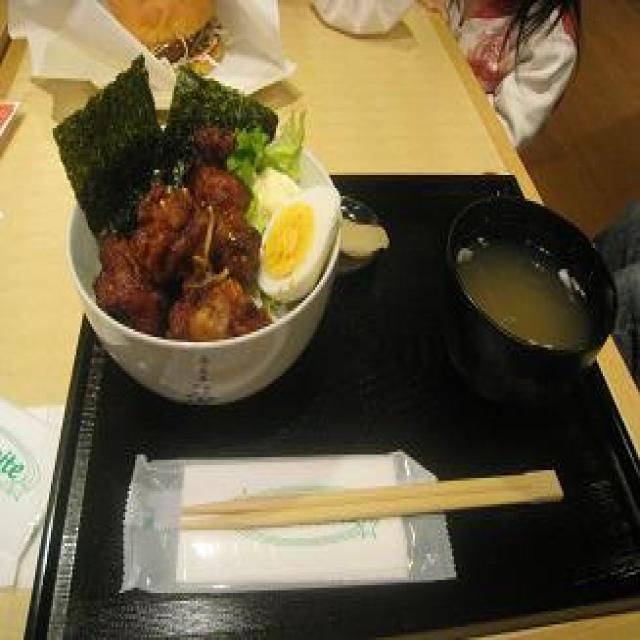鸡肉料理 含炸鸡: (59, 65, 284, 397)
